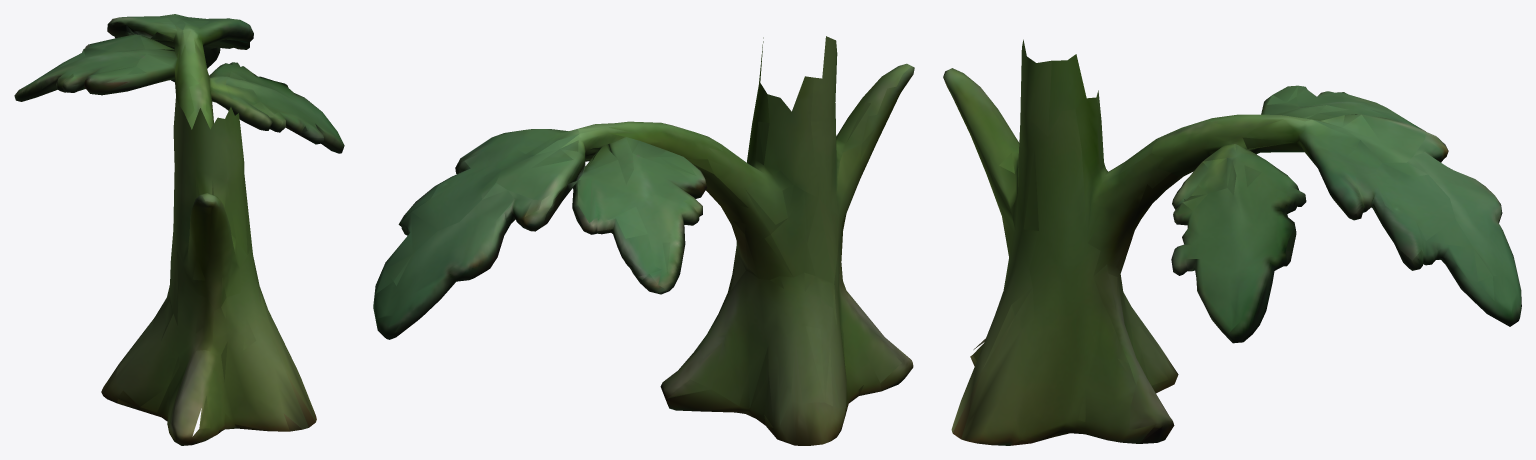
The model's file is plant_tomato_clay_seedling.glb.
3 views of the same model, side by side, from view 1: azimuth 30°, elevation 25°; view 2: azimuth 150°, elevation 25°; view 3: azimuth 270°, elevation 25° (orthographic). The views are drawn at different scales.
Parts seen in each view (by area): view 1: tripo_node_7225cf2a-3e7f-467a-aac7-eda7ac97cce7; view 2: tripo_node_7225cf2a-3e7f-467a-aac7-eda7ac97cce7; view 3: tripo_node_7225cf2a-3e7f-467a-aac7-eda7ac97cce7.
Part boxes in pixels (<box>): tripo_node_7225cf2a-3e7f-467a-aac7-eda7ac97cce7: <box>14,14,344,445</box>; tripo_node_7225cf2a-3e7f-467a-aac7-eda7ac97cce7: <box>373,36,914,445</box>; tripo_node_7225cf2a-3e7f-467a-aac7-eda7ac97cce7: <box>943,39,1521,445</box>.
Size of the model in its own units: 0.1401 by 0.1529 by 0.2148.
1 material, 1 textured.
